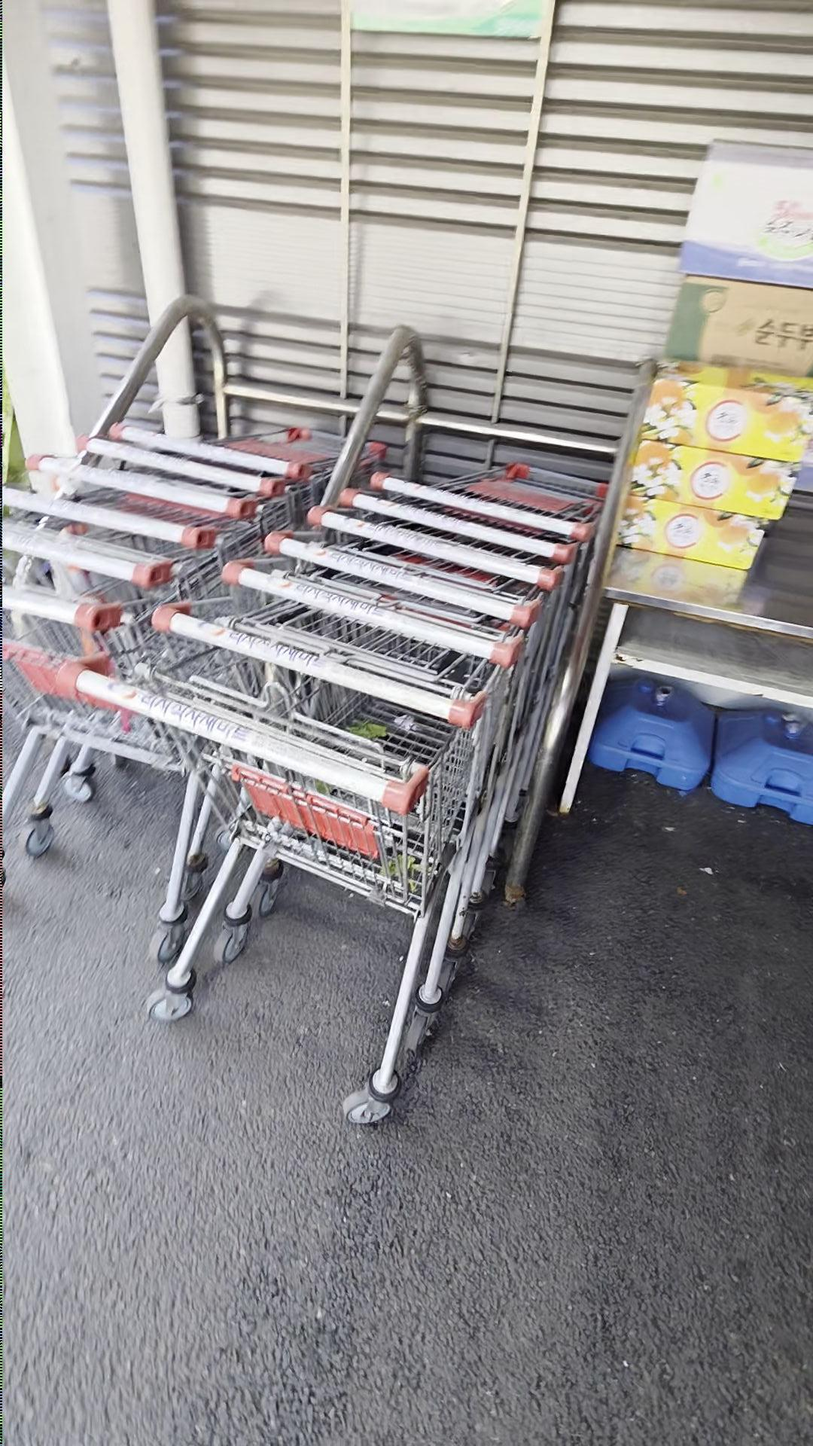combined_cart: (37, 321, 659, 1131)
